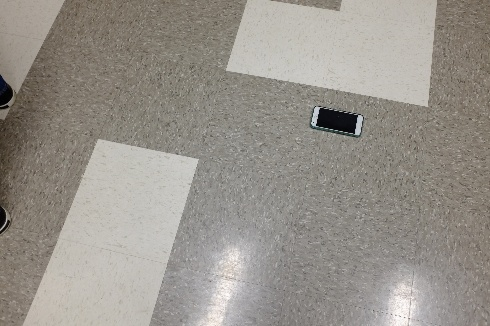phone: (311, 105, 360, 137)
